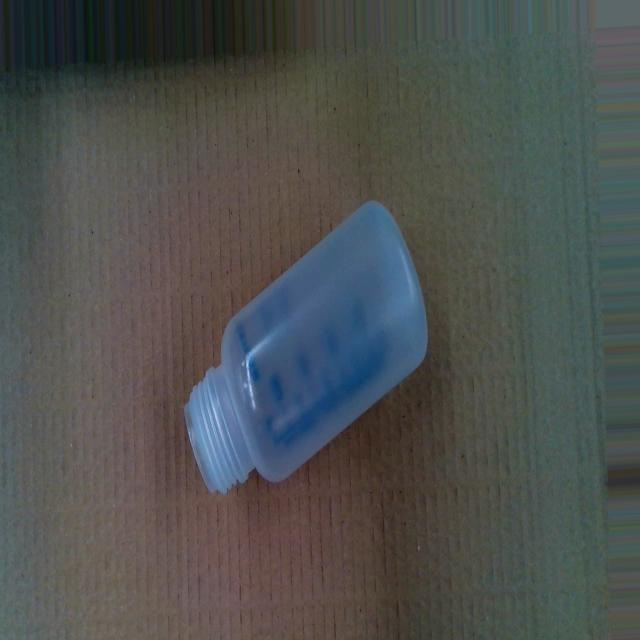bottle: (182, 196, 430, 493)
